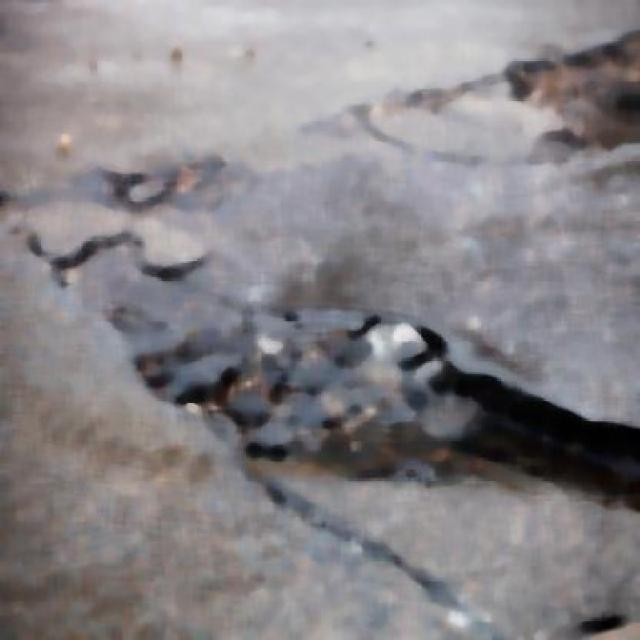Pothole: (79, 232, 639, 520)
